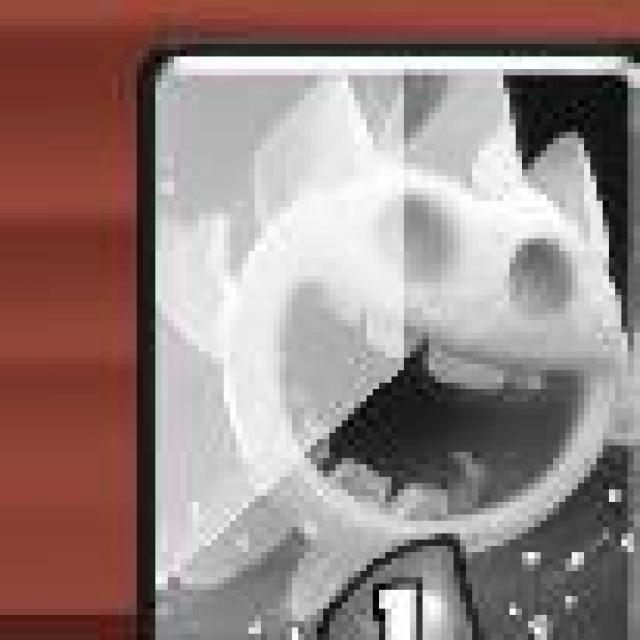Ice_Spirit: (142, 45, 640, 640)
